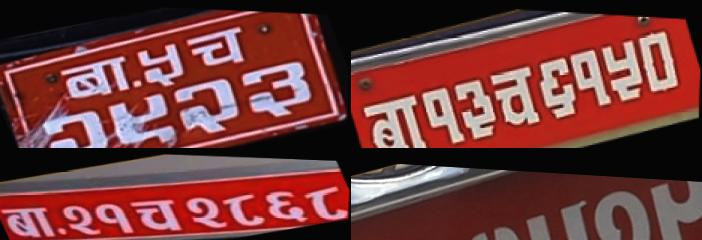0: (631, 19, 691, 97)
1: (414, 77, 474, 148), (565, 40, 619, 116), (85, 191, 140, 240)
2: (578, 169, 680, 240), (170, 70, 252, 140), (37, 103, 126, 148), (177, 184, 236, 234), (53, 196, 108, 240)
3: (232, 53, 329, 129), (448, 68, 509, 146)
4: (449, 205, 554, 240)
5: (514, 185, 619, 240), (597, 29, 654, 107), (130, 38, 198, 90)
6: (529, 48, 587, 123), (257, 177, 318, 227)
8: (212, 177, 276, 232), (296, 173, 350, 223)
9: (102, 86, 192, 148), (638, 170, 702, 240)
ba: (355, 83, 436, 148), (53, 49, 140, 106), (0, 198, 65, 240)
cha: (486, 57, 552, 136), (181, 19, 259, 76), (123, 189, 193, 238)
